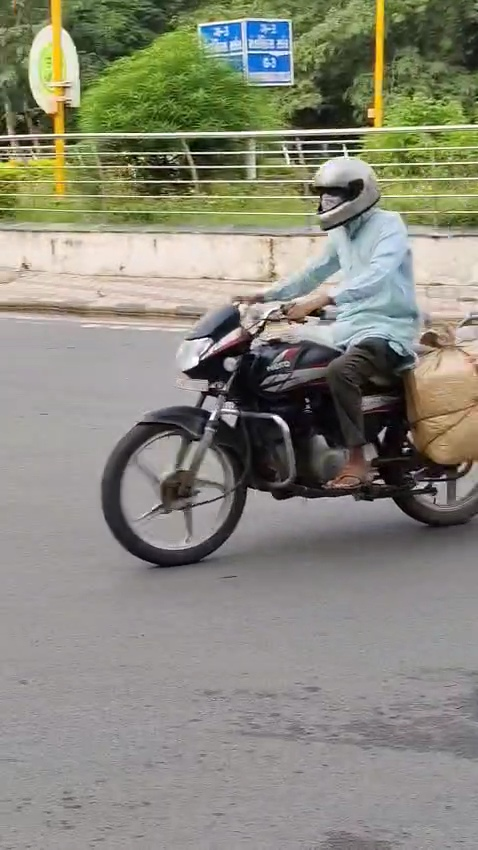BikeWithRider: (98, 154, 478, 570)
Helmet: (303, 148, 385, 238)
